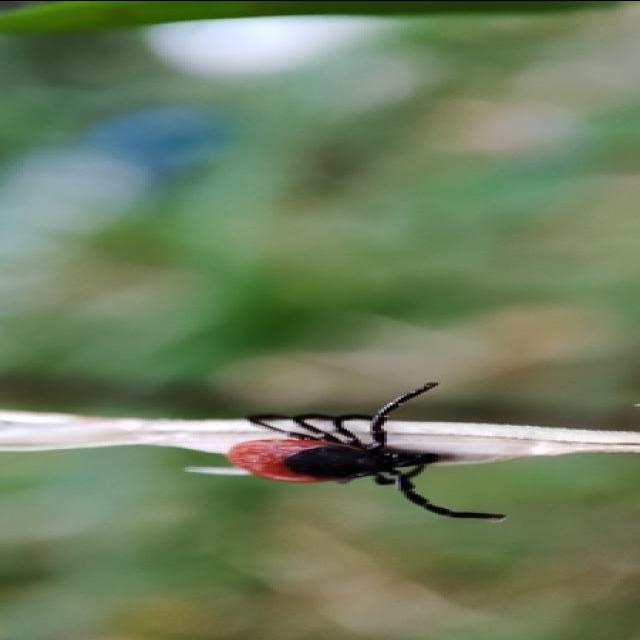Ixodes Ricinus-F: (225, 379, 472, 515)
